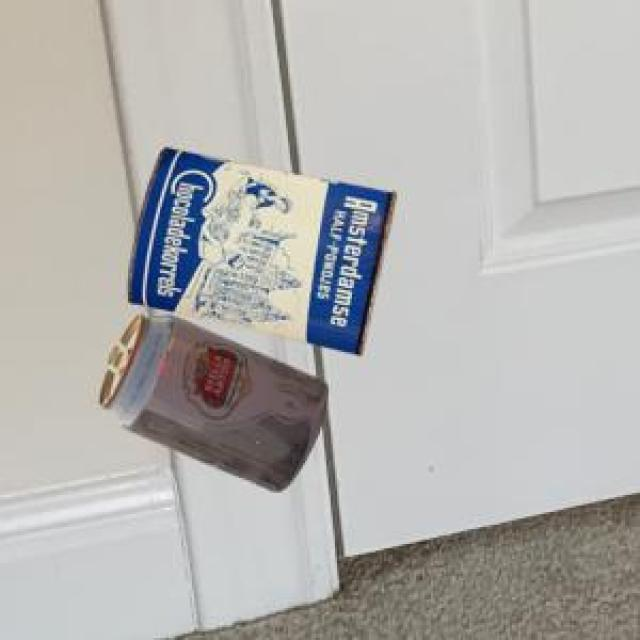Can: (125, 144, 394, 351), (95, 310, 323, 487)
